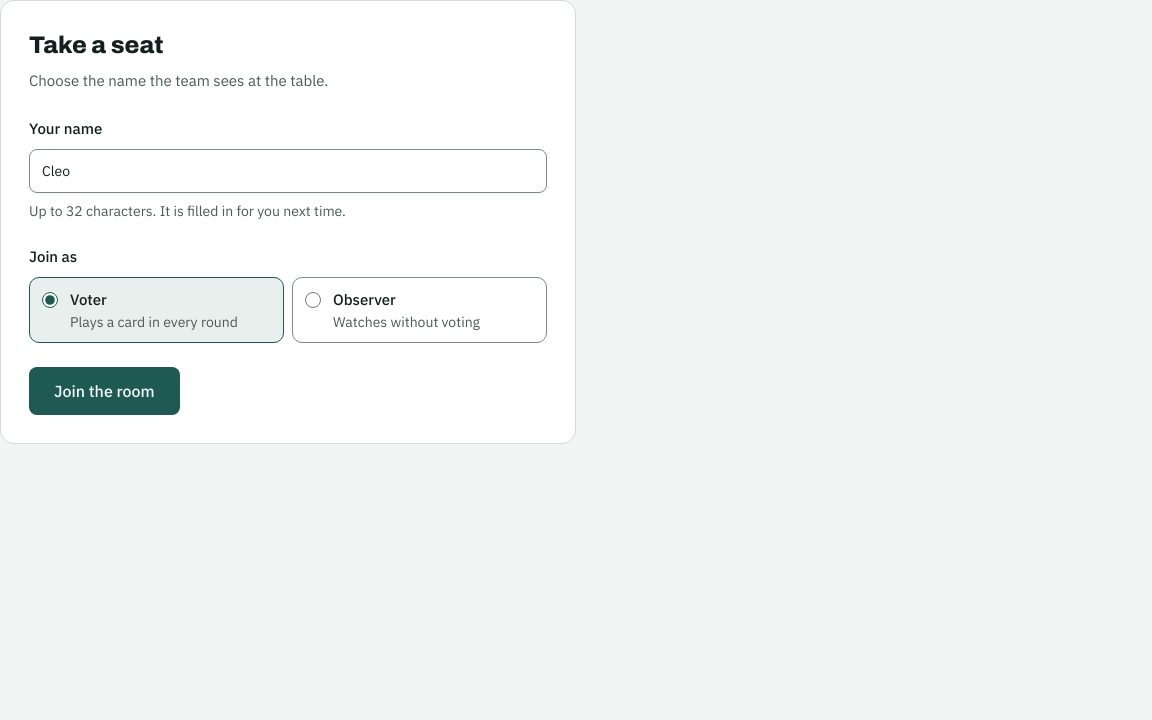
the join form › joins without saving a name that is already the saved one
Click the button "Join the room". click: point(104, 391)
box: left=29, top=367, right=180, bottom=415
(page scrolled)
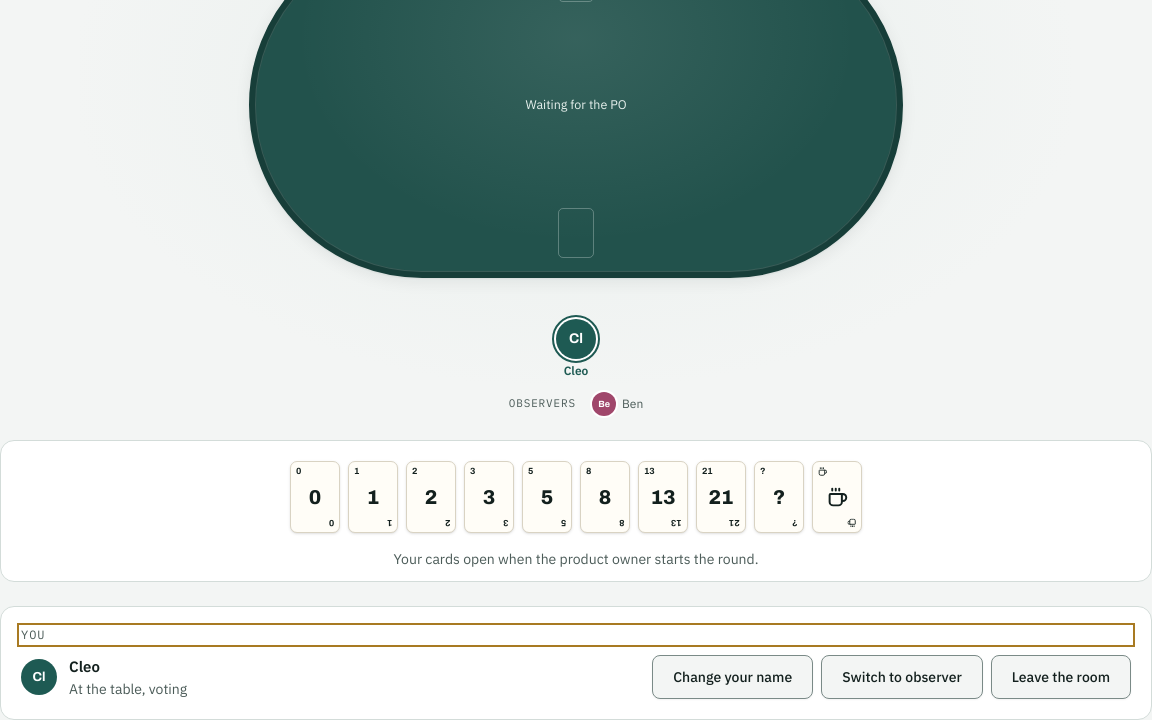
Check: the heading "You" is shown, box left=21, top=627, right=46, bottom=642
